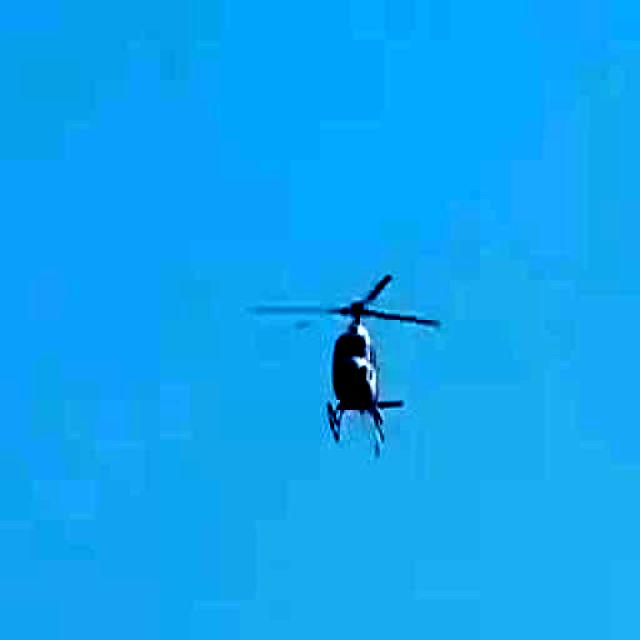drone: (236, 232, 476, 506)
